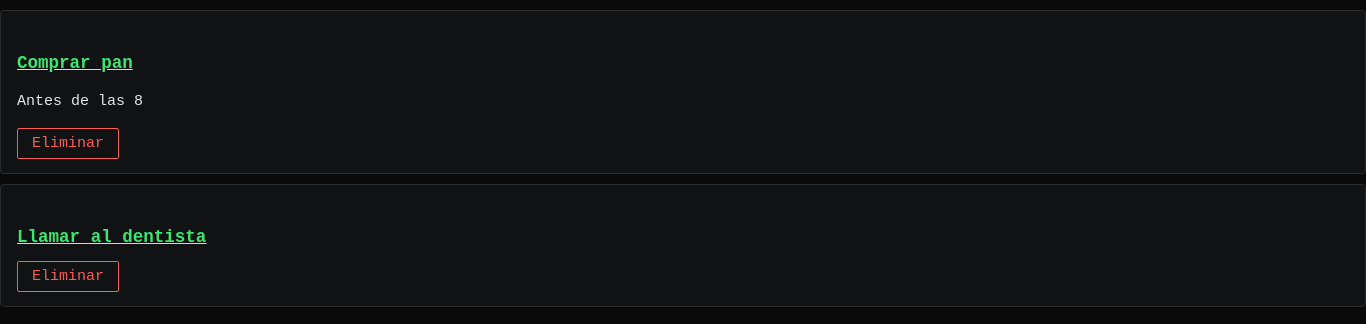
Test case: NotesList delete › deletes_the_note_after_confirming_and_refreshes_the_list_from_the_server
Click the button "Eliminar" below "Comprar pan".
click(68, 144)  # box [17, 128, 119, 159]
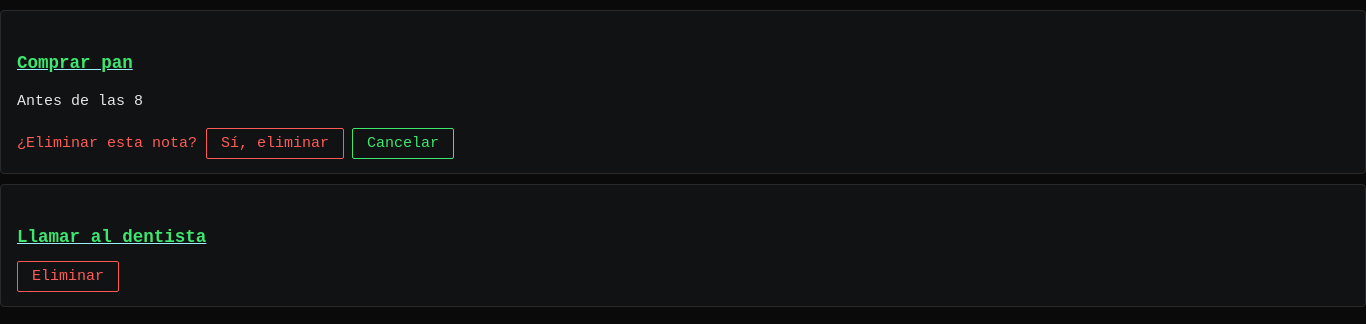
Click the button "Sí, eliminar".
click(275, 144)  # box [206, 128, 344, 159]
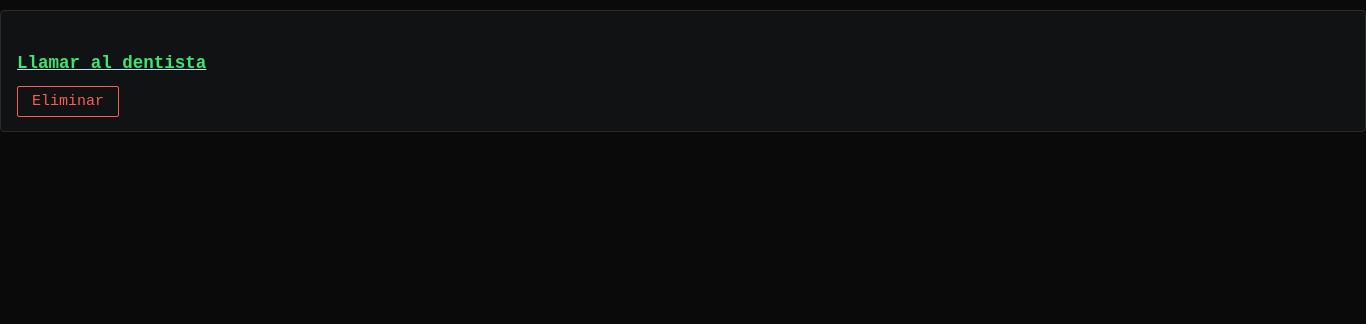
Expected: the heading "Llamar al dentista" is shown, [17, 53, 206, 73]
Expected: the link "Comprar pan" is gone
